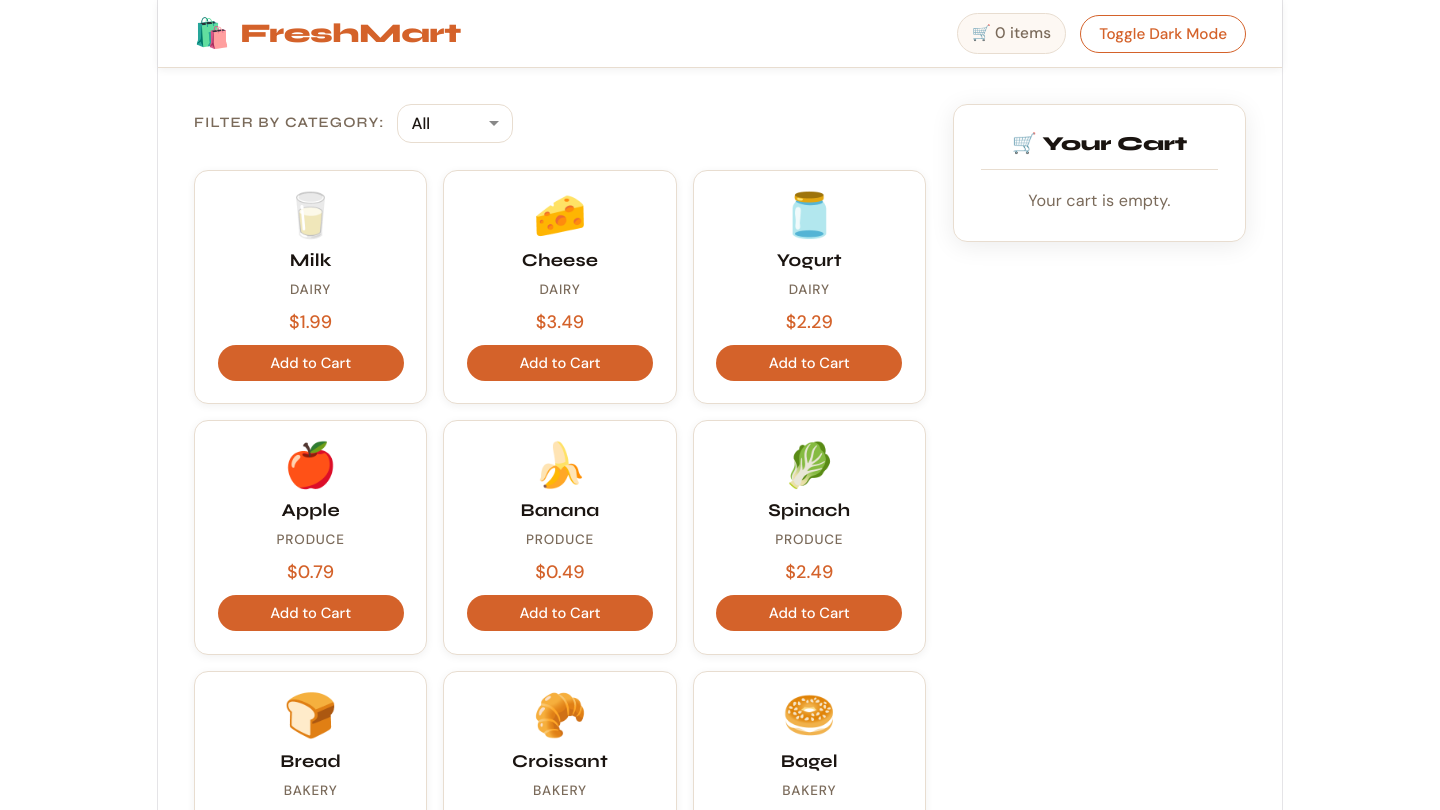
Scenario: Add to Cart › shows 'Milk is in your cart.' after adding Milk
# Milk is in the Dairy category, visible by default (All)
Click the button with class "add-btn" below "1.99".
click(311, 363)  # box [218,345,404,381]
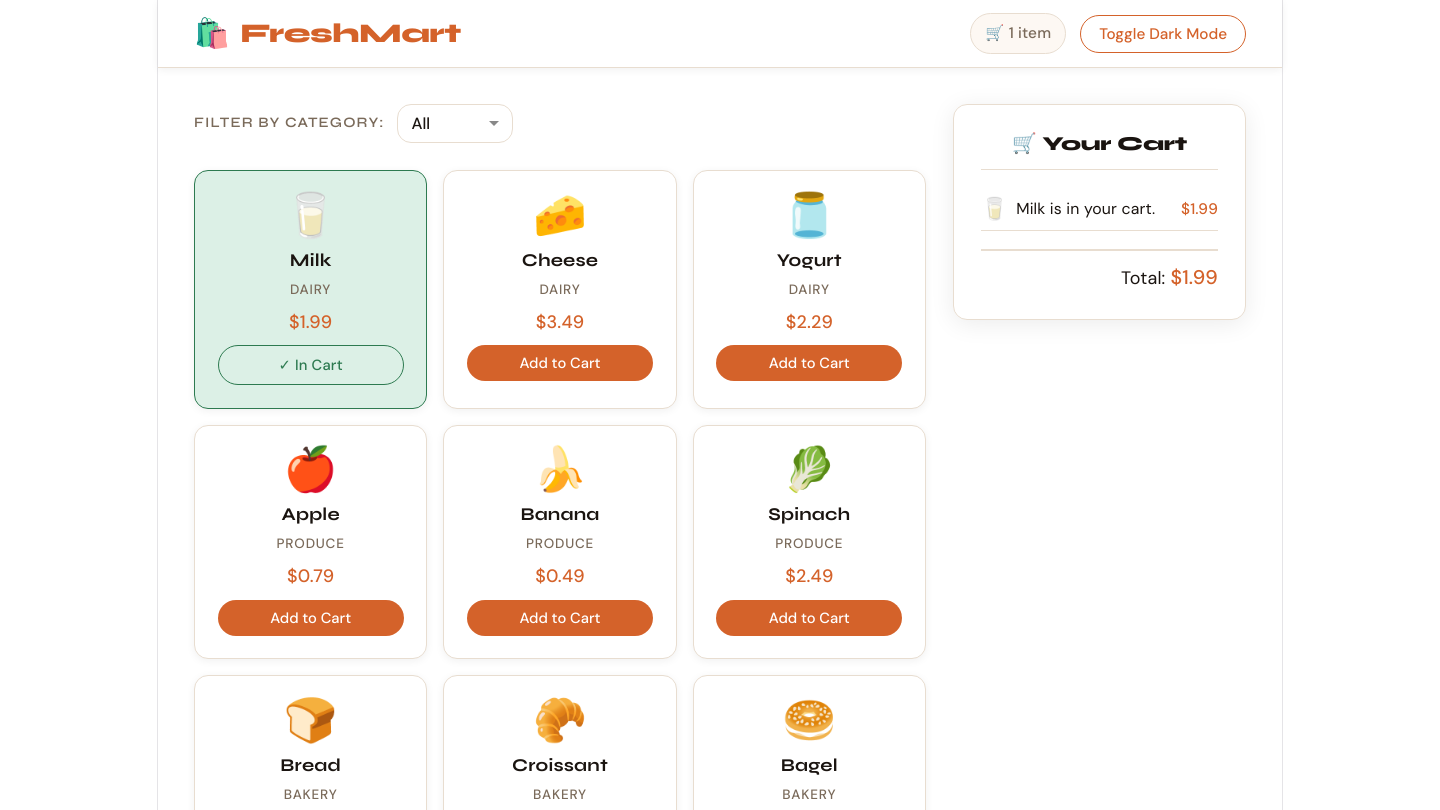
Expected: the text "Milk is in your cart." is shown, [1016,196,1155,222]
